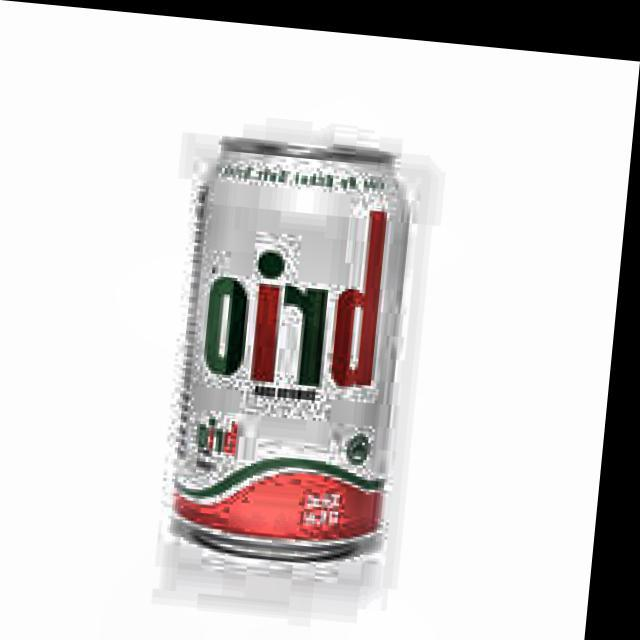can: (137, 90, 483, 586)
